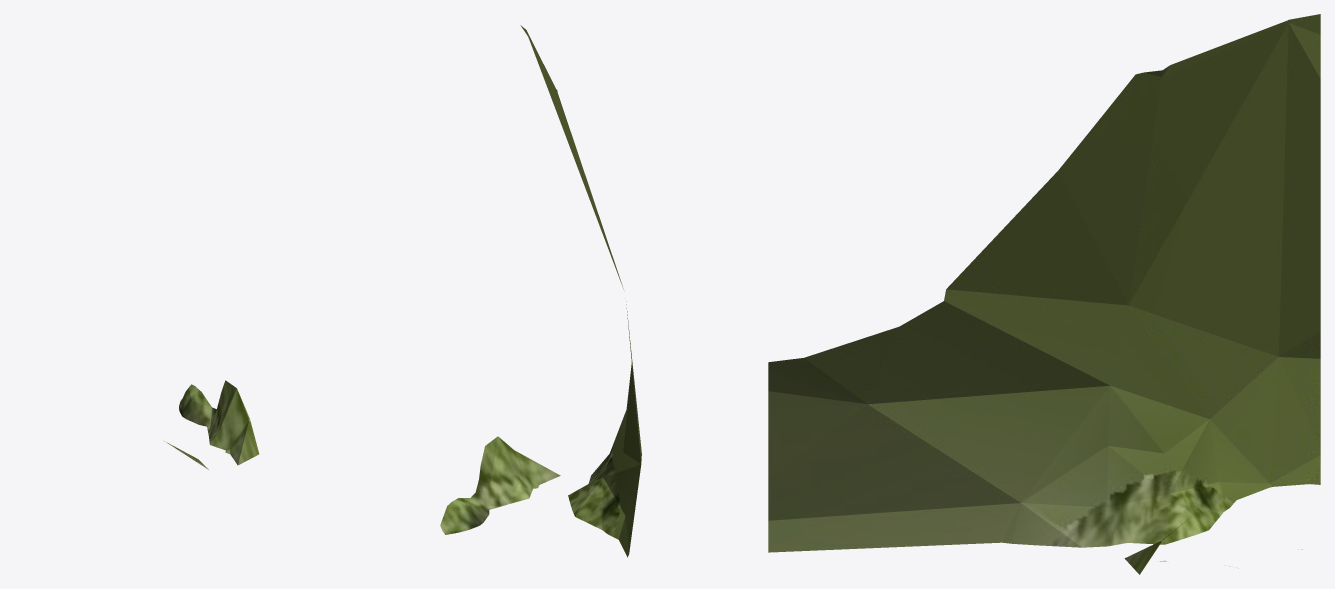
The picture shows the model from 3 angles, left to right: view 1: azimuth 30°, elevation 25°; view 2: azimuth 150°, elevation 25°; view 3: azimuth 270°, elevation 25°; orthographic projection. The views are drawn at different scales.
Size of the model in its own units: 1.28 by 2.95 by 2.95.
Materials: 2 (2 with a texture image).
